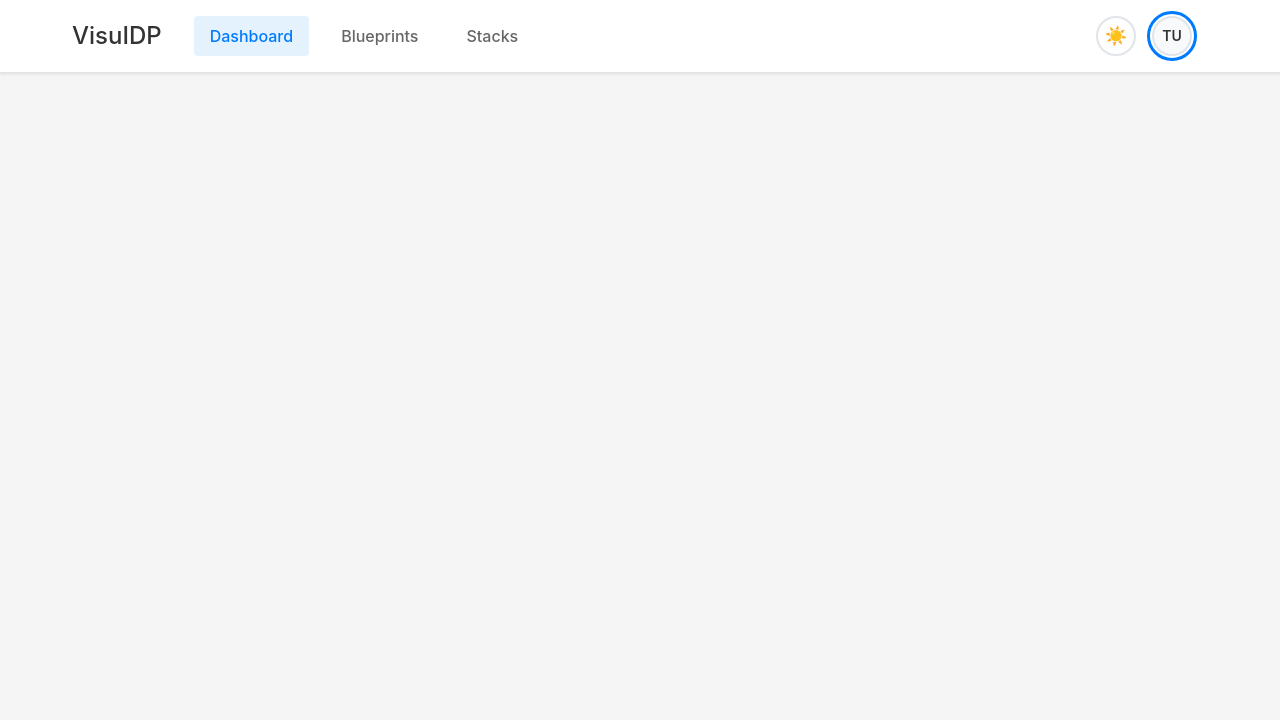
Test: Header Integration Tests › Theme toggle remains functional › should keep ThemeToggle functional when dropdown is open
The width and height of the screenshot is (1280, 720).
Open dropdown
Click the button with aria-label "User profile menu" at (1172, 36), box x1=1152 y1=16 x2=1192 y2=56
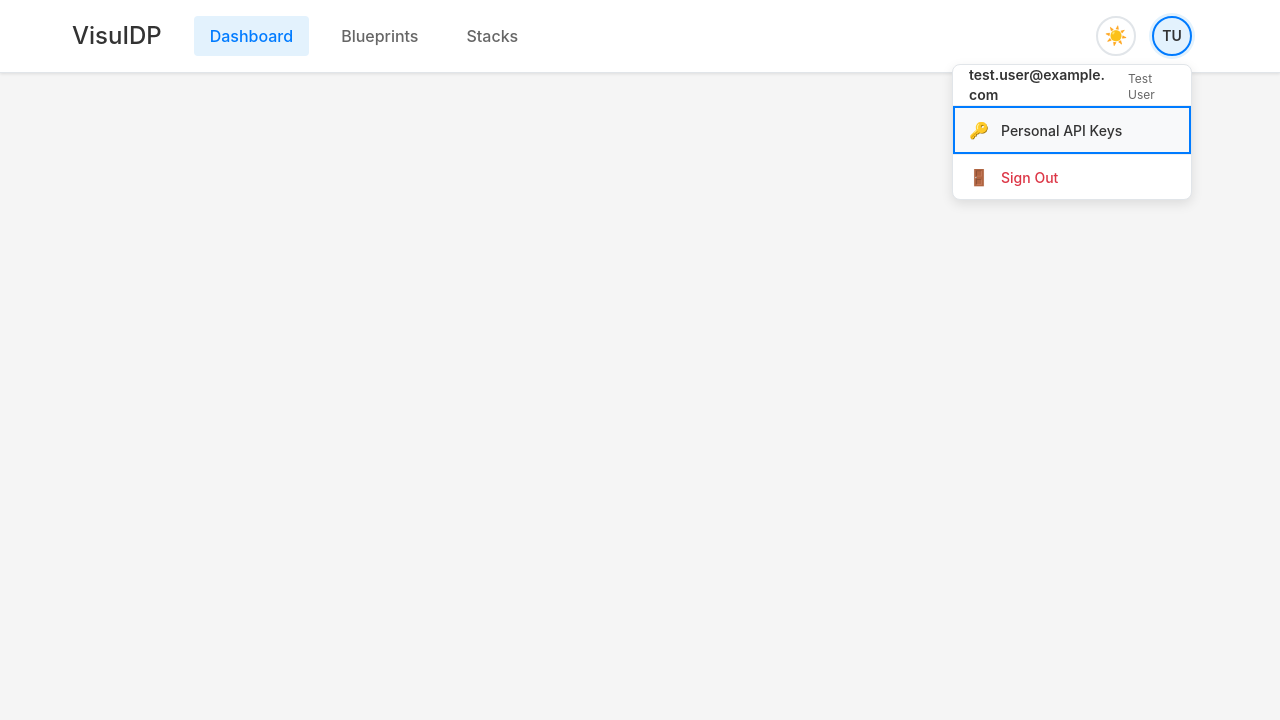
Check: the menu is shown, box x1=952 y1=64 x2=1192 y2=200
Theme toggle should still work (clicking it will close dropdown due to click-outside)
Click the button named "Current theme" at (1116, 36), box x1=1096 y1=16 x2=1136 y2=56
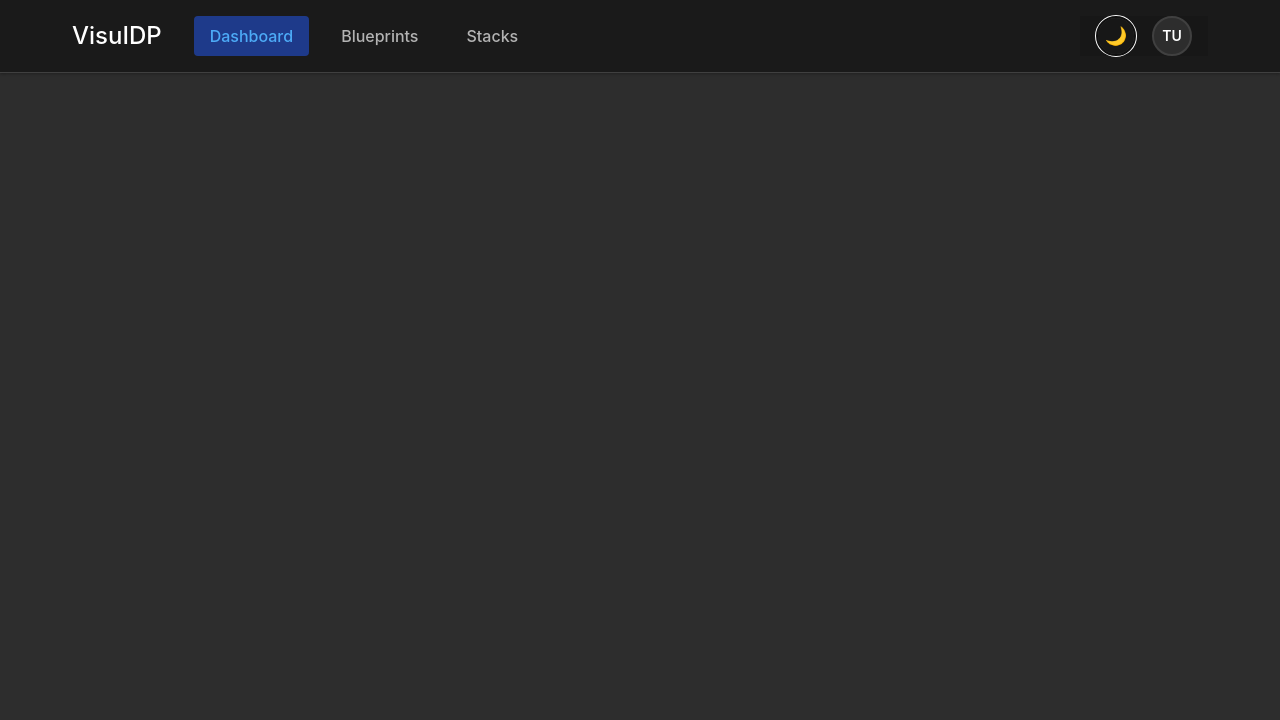
Check: the menu is gone
